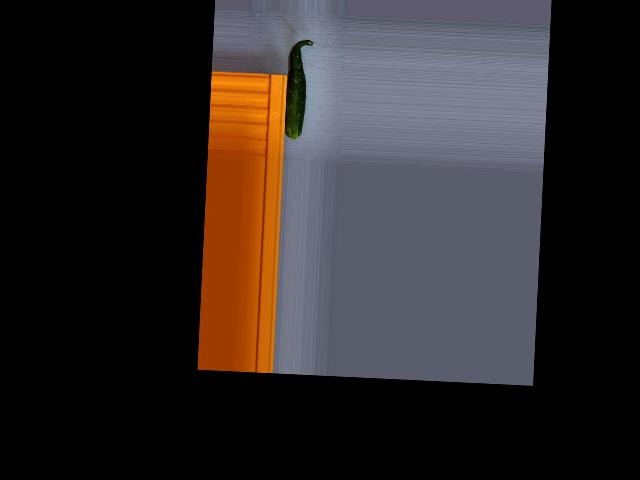cucumber: (283, 38, 313, 139)
